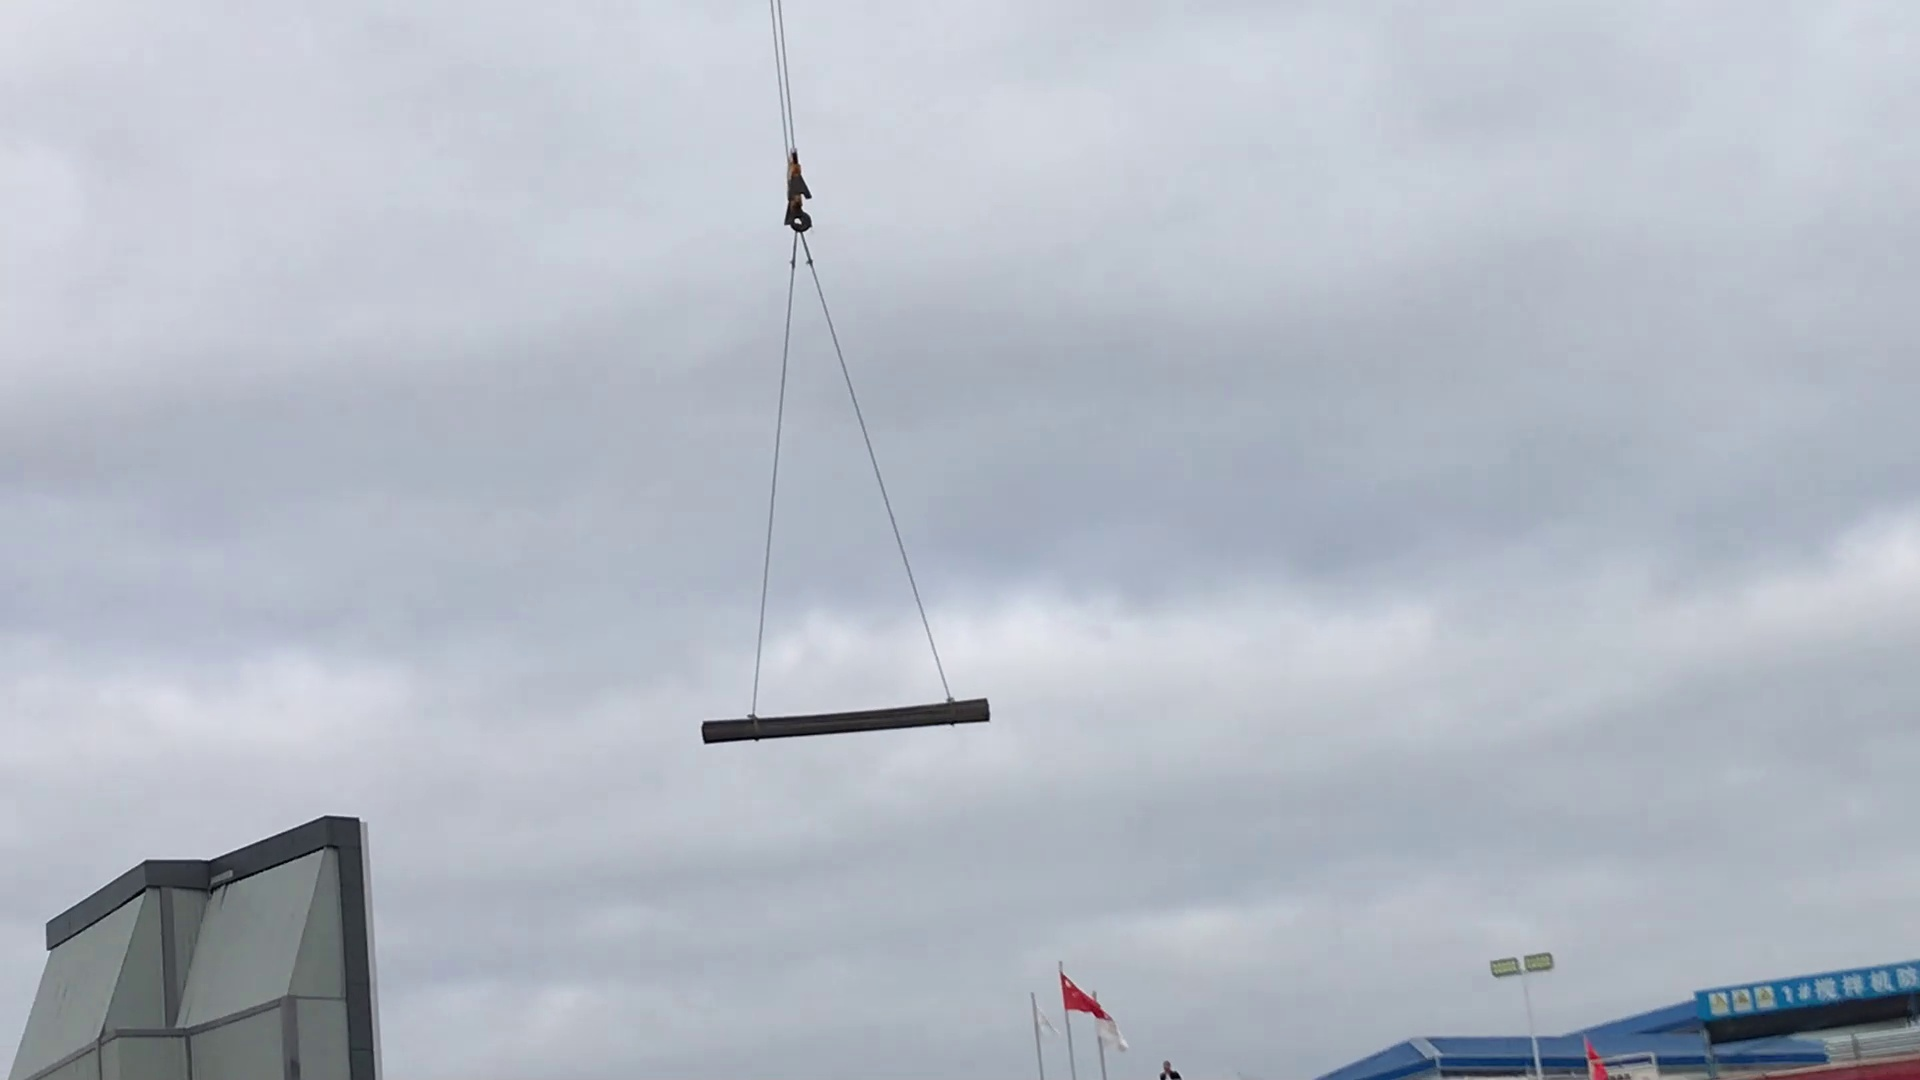rebar: (688, 691, 997, 752)
